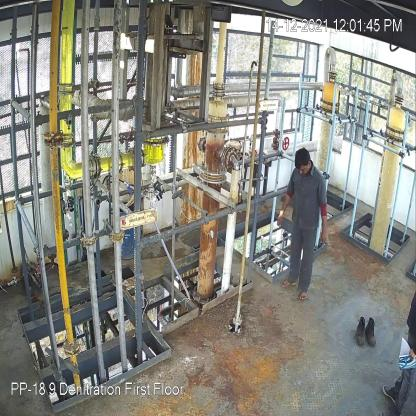no_shoes: (296, 290, 309, 306), (280, 278, 296, 288)
shoes: (354, 315, 369, 347), (366, 318, 378, 346)
